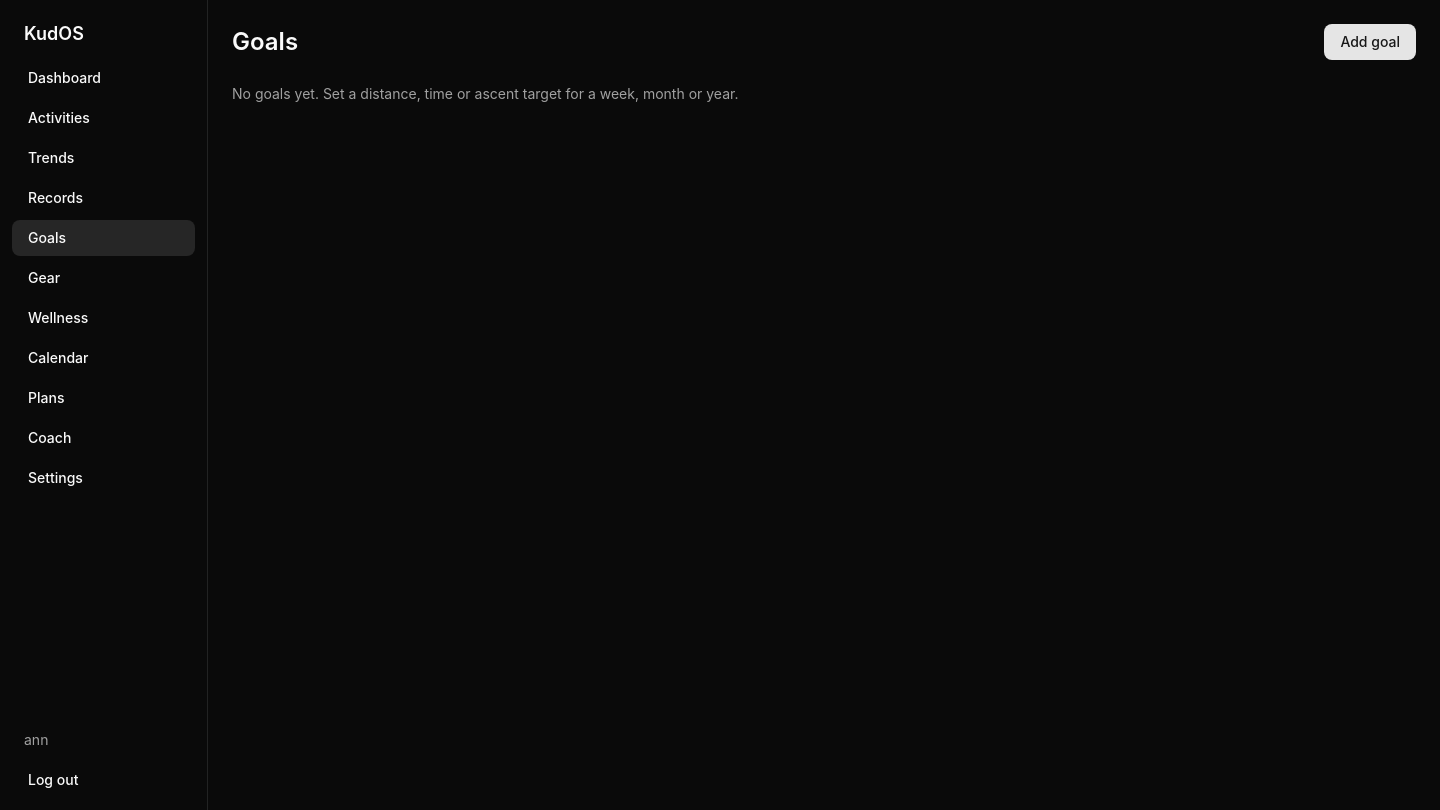
Test: GoalsPage › reads a time target and shows a rejected goal
Click the button "Add goal": [1370, 42] box [1324,24,1416,60]
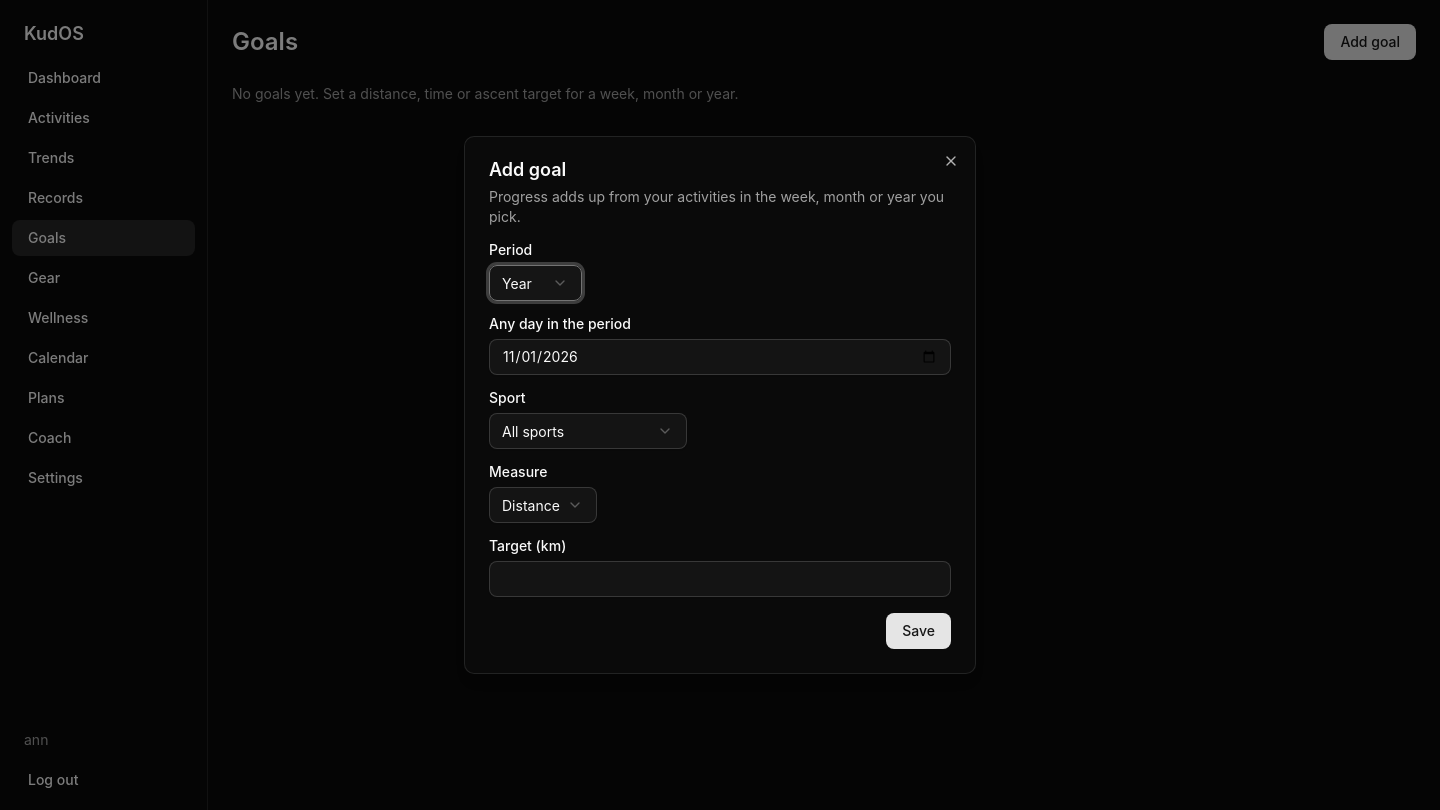
Select "Week" in the dropdown labelled "Period": [536, 283] box [489,265,582,301]
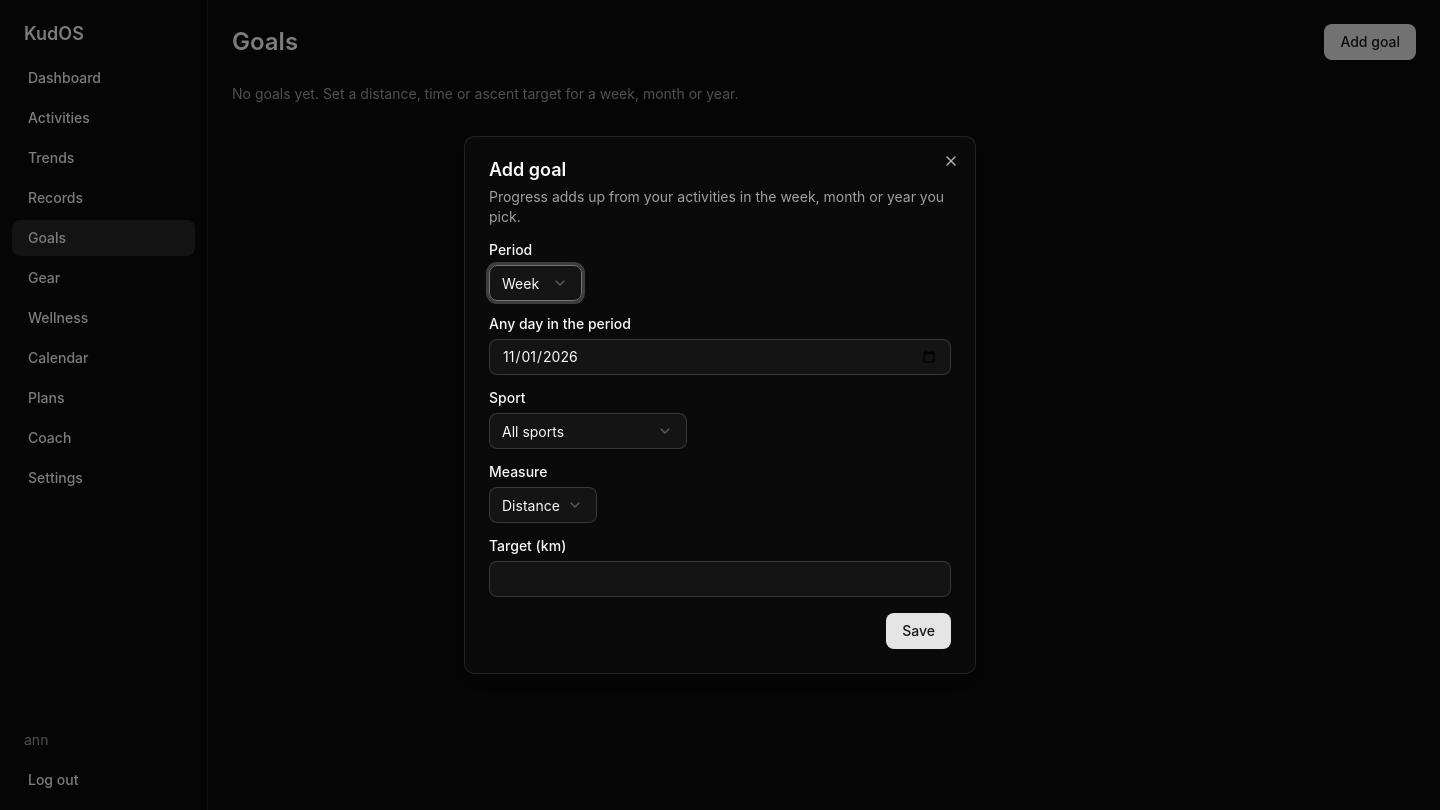
Select "Time" in the dropdown labelled "Measure": [543, 505] box [489,487,597,523]
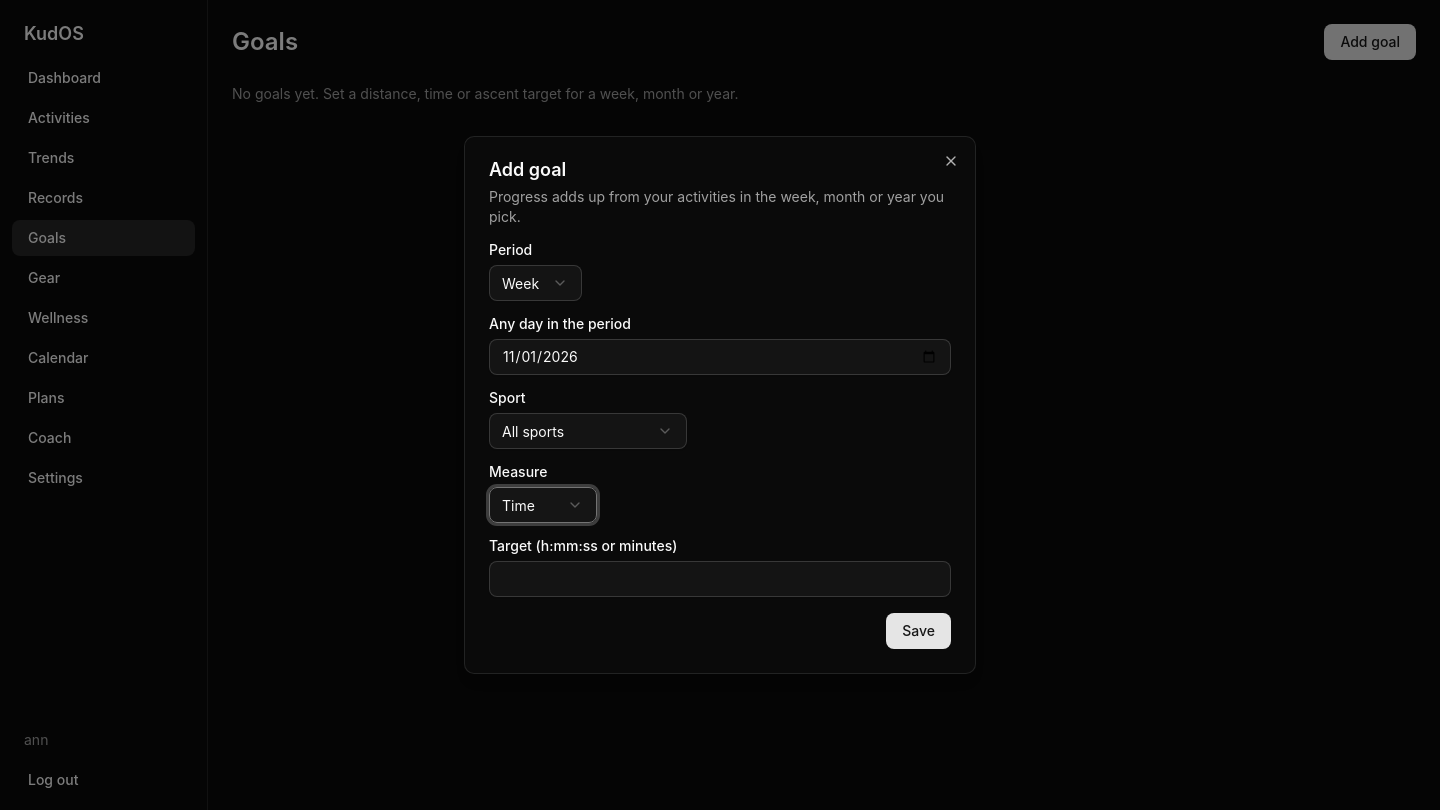
In the field labelled "Target (h:mm:ss or minutes)": [720, 579] box [489,561,951,597], type "5:00:00"
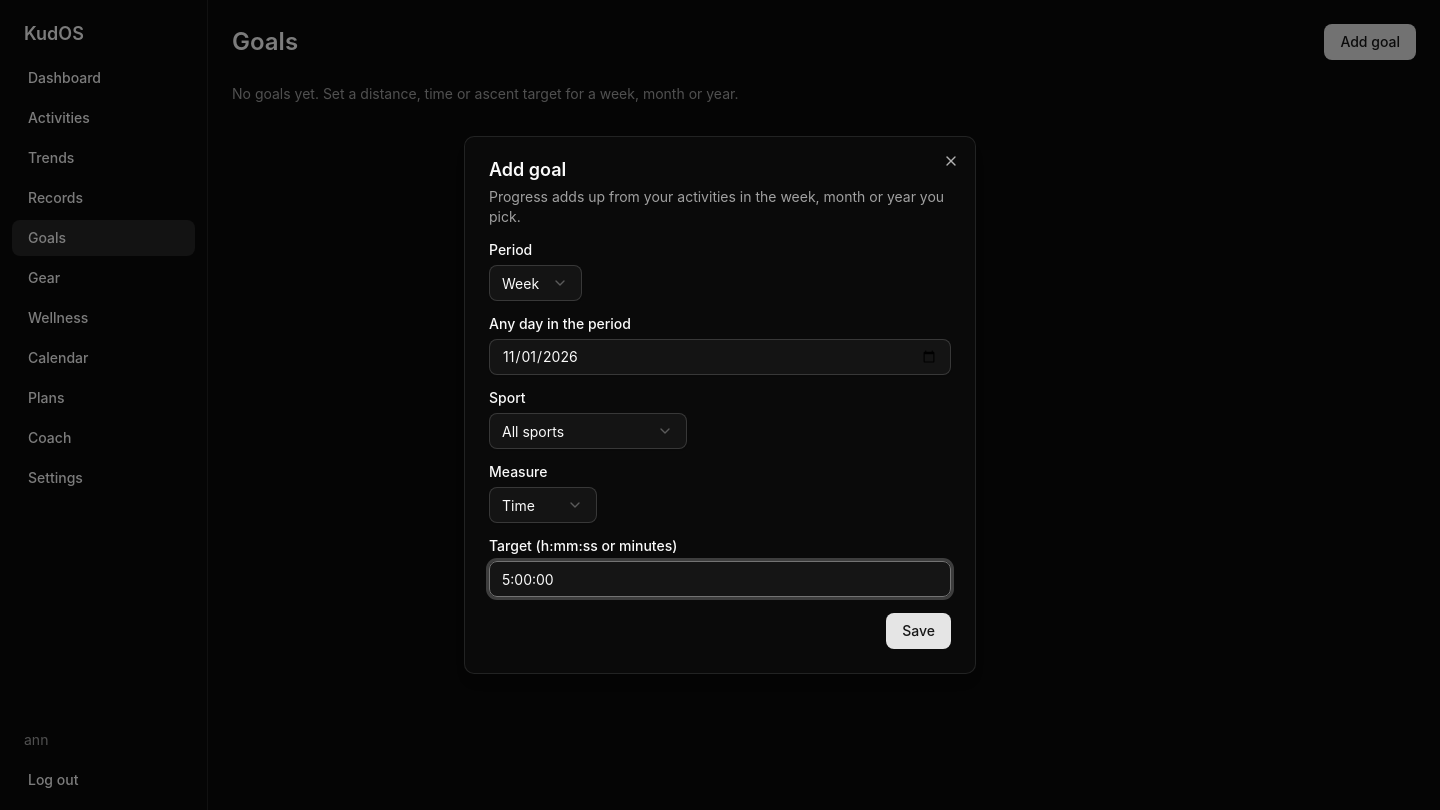
Click the button "Save": [919, 631] box [886,613,951,649]
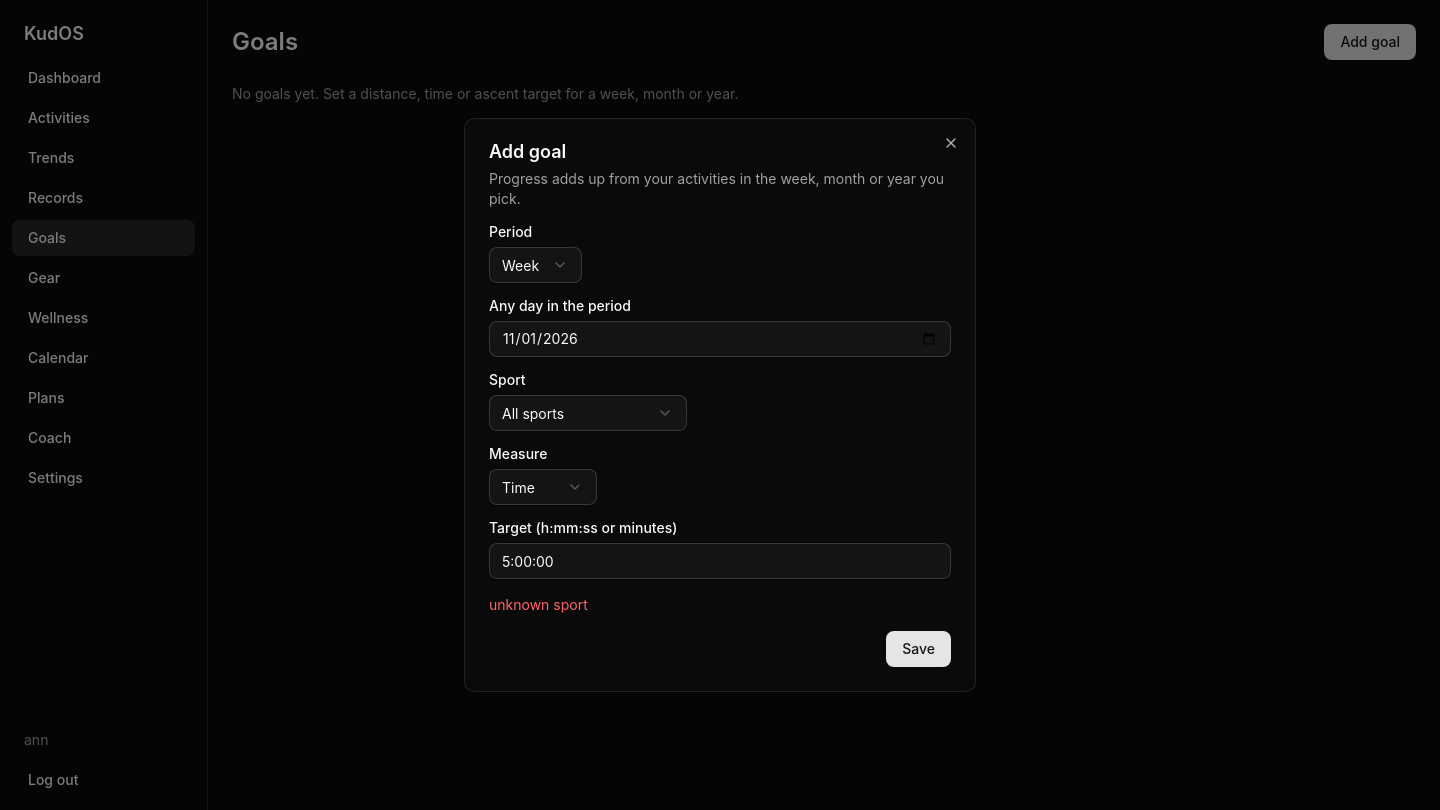
Expected: the message reads "unknown sport", [489,596,588,613]
